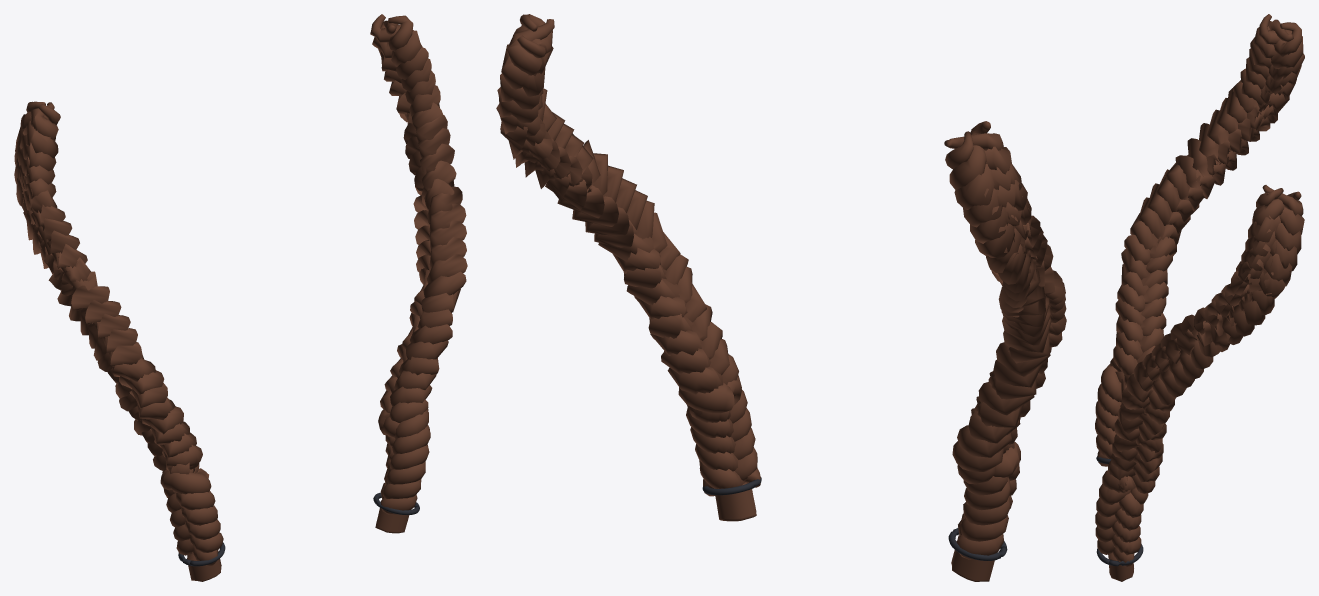
The model's file is Feminine-twin-braids-tshirt-pashmina-lengths251.glb.
3 views of the same model, side by side, from view 1: azimuth 30°, elevation 25°; view 2: azimuth 150°, elevation 25°; view 3: azimuth 270°, elevation 25° (orthographic). The views are drawn at different scales.
Visible parts, largest first — view 1: 226 hairLengths / Hair / chestnut226, 226 hairLengths / Hair / ties226; view 2: 226 hairLengths / Hair / chestnut226, 226 hairLengths / Hair / ties226; view 3: 226 hairLengths / Hair / chestnut226, 226 hairLengths / Hair / ties226.
Part boxes in pixels (bbox=[...]): 226 hairLengths / Hair / chestnut226: bbox=[14, 14, 467, 581]; 226 hairLengths / Hair / ties226: bbox=[178, 492, 419, 566]; 226 hairLengths / Hair / chestnut226: bbox=[496, 14, 1066, 581]; 226 hairLengths / Hair / ties226: bbox=[702, 477, 1007, 560]; 226 hairLengths / Hair / chestnut226: bbox=[1095, 14, 1304, 581]; 226 hairLengths / Hair / ties226: bbox=[1096, 456, 1143, 566].
Bounding box in the file's own units: 1.03 × 1.06 × 0.4665.
